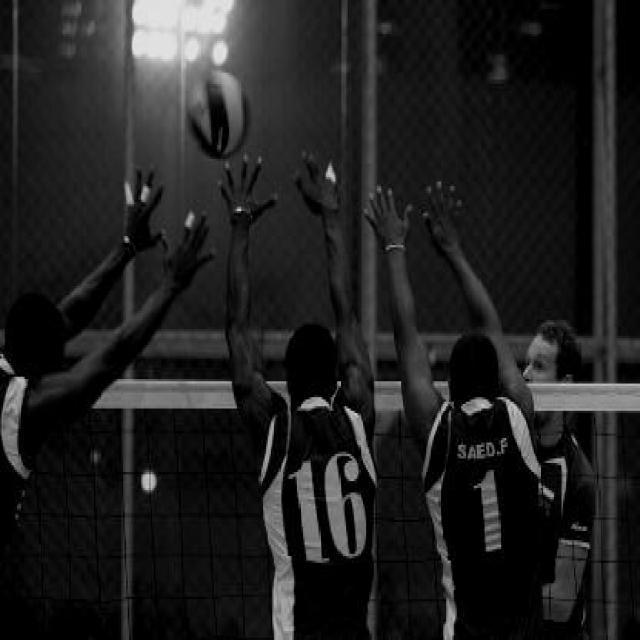volleyball: (184, 68, 250, 160)
